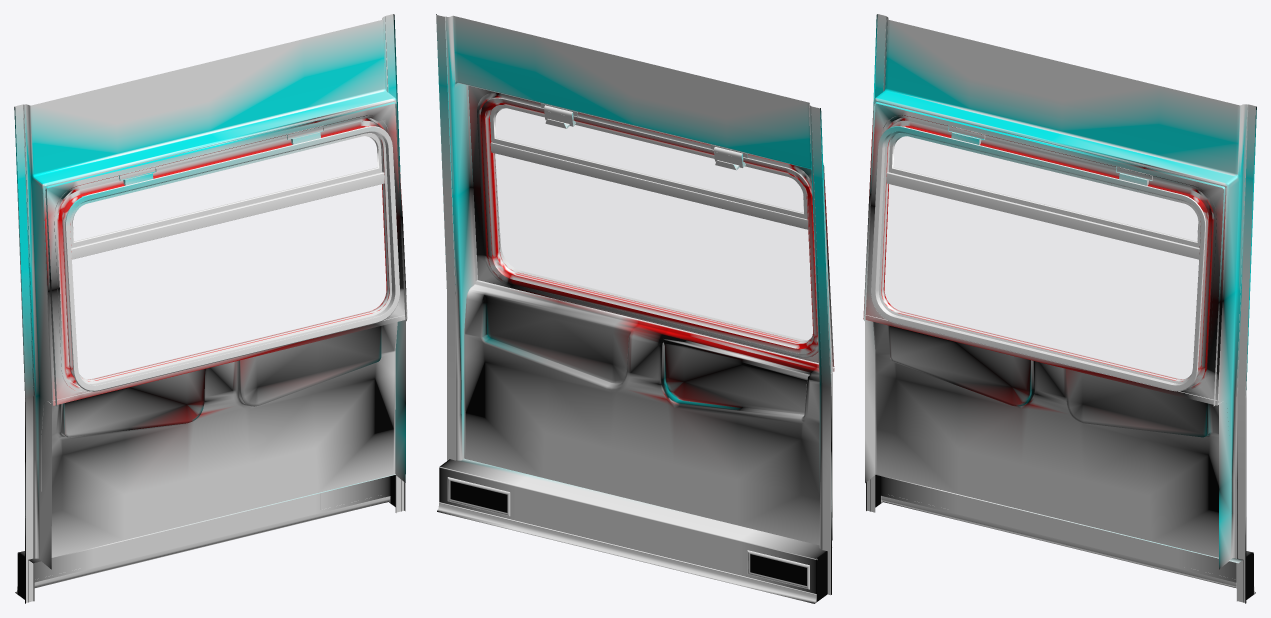
The model's file is SM_int_wall_window_200_01.fbx.
3 views of the same model, side by side, from view 1: azimuth 30°, elevation 25°; view 2: azimuth 150°, elevation 25°; view 3: azimuth 330°, elevation 25° (orthographic).
Visible parts, largest first — view 1: SM_int_wall_window_200_01; view 2: SM_int_wall_window_200_01; view 3: SM_int_wall_window_200_01.
Boxes of the visible parts, left/top/right/bottom form: SM_int_wall_window_200_01: left=14, top=14, right=407, bottom=603; SM_int_wall_window_200_01: left=436, top=14, right=834, bottom=603; SM_int_wall_window_200_01: left=863, top=14, right=1256, bottom=603.
Size of the model in its own units: 204 by 34.09 by 251.
